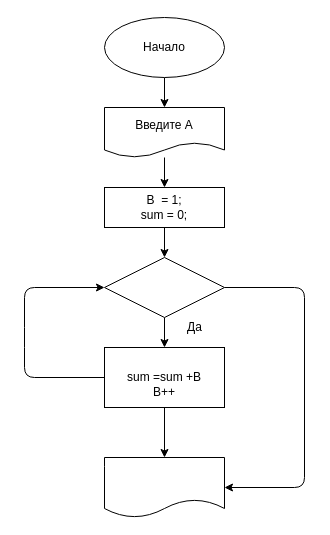
Image size: 330x535. Some labels were removed from this diagram. The centre of each missing label's shape, as x and y in pixels:
B < A: pixel 164 287
print A: pixel 164 487
